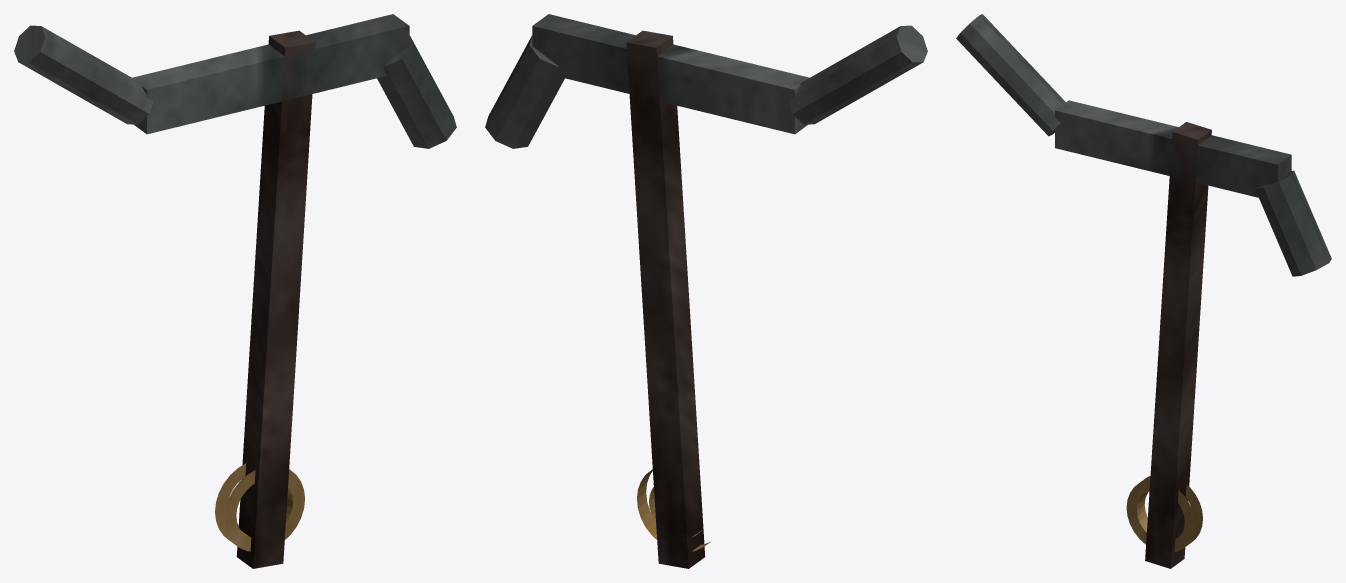
Rendered from 0876_climbing_axe_01.glb.
3 renders of one model, left to right at view 1: azimuth 30°, elevation 25°; view 2: azimuth 150°, elevation 25°; view 3: azimuth 330°, elevation 25°, orthographic. The views are drawn at different scales.
Visible parts, largest first — view 1: iron, wood_dark, brass; view 2: iron, wood_dark, brass; view 3: iron, wood_dark, brass.
Part boxes in pixels (x1=…): iron: x1=14, y1=14, x2=456, y2=148; wood_dark: x1=236, y1=30, x2=315, y2=568; brass: x1=215, y1=463, x2=304, y2=551; iron: x1=485, y1=14, x2=927, y2=148; wood_dark: x1=626, y1=30, x2=705, y2=568; brass: x1=637, y1=469, x2=710, y2=551; iron: x1=956, y1=14, x2=1331, y2=276; wood_dark: x1=1145, y1=122, x2=1211, y2=568; brass: x1=1126, y1=476, x2=1202, y2=551.
Size of the model in its own units: 1.08 by 1.39 by 0.11.
3 materials, 3 textured.
